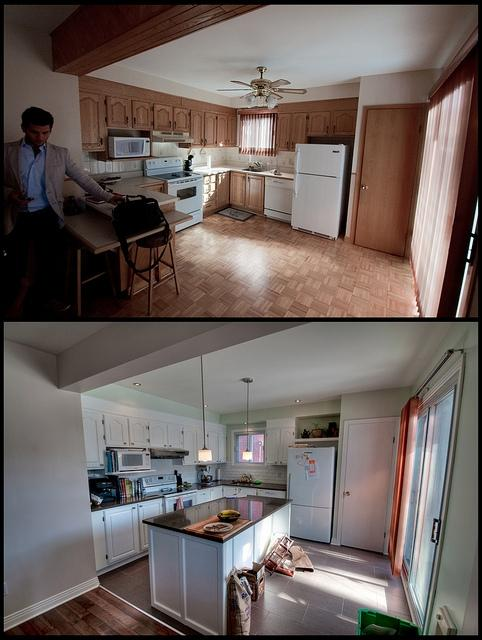banana: (220, 515, 237, 518), (220, 510, 226, 514)
